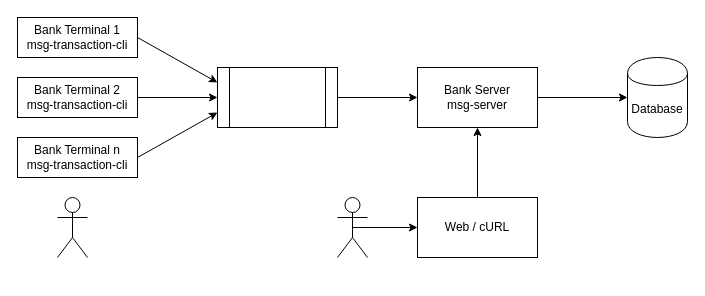
The diagram is 705 pixels wide and 296 high, and some of its shapes have lost their labels. Here are the shapes that lost their labels. From the top down, the centre of each, then its label:
the point at 277,97: Message Transport
the point at 72,227: Bank Employee
the point at 352,227: Online User
